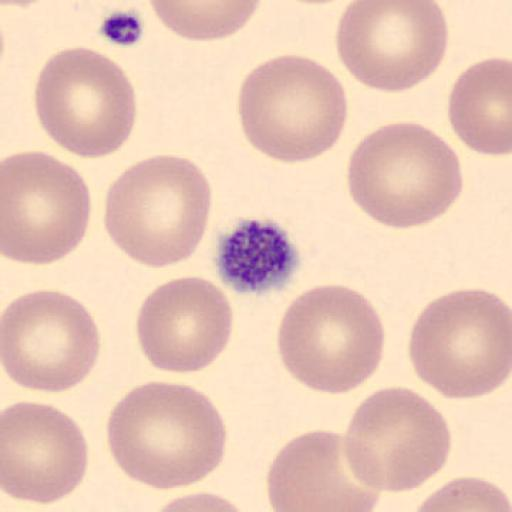Platelet: (212, 214, 304, 297)
RBC: (105, 380, 229, 492), (102, 152, 214, 270), (346, 119, 464, 231), (237, 52, 349, 165), (276, 283, 387, 397), (343, 384, 452, 494), (34, 45, 138, 160), (408, 286, 512, 400), (0, 287, 102, 396), (334, 0, 451, 95), (3, 148, 92, 267), (135, 274, 235, 376), (265, 427, 385, 512), (2, 400, 90, 506), (446, 55, 512, 157), (146, 0, 264, 42), (410, 475, 512, 512), (148, 489, 253, 512)
